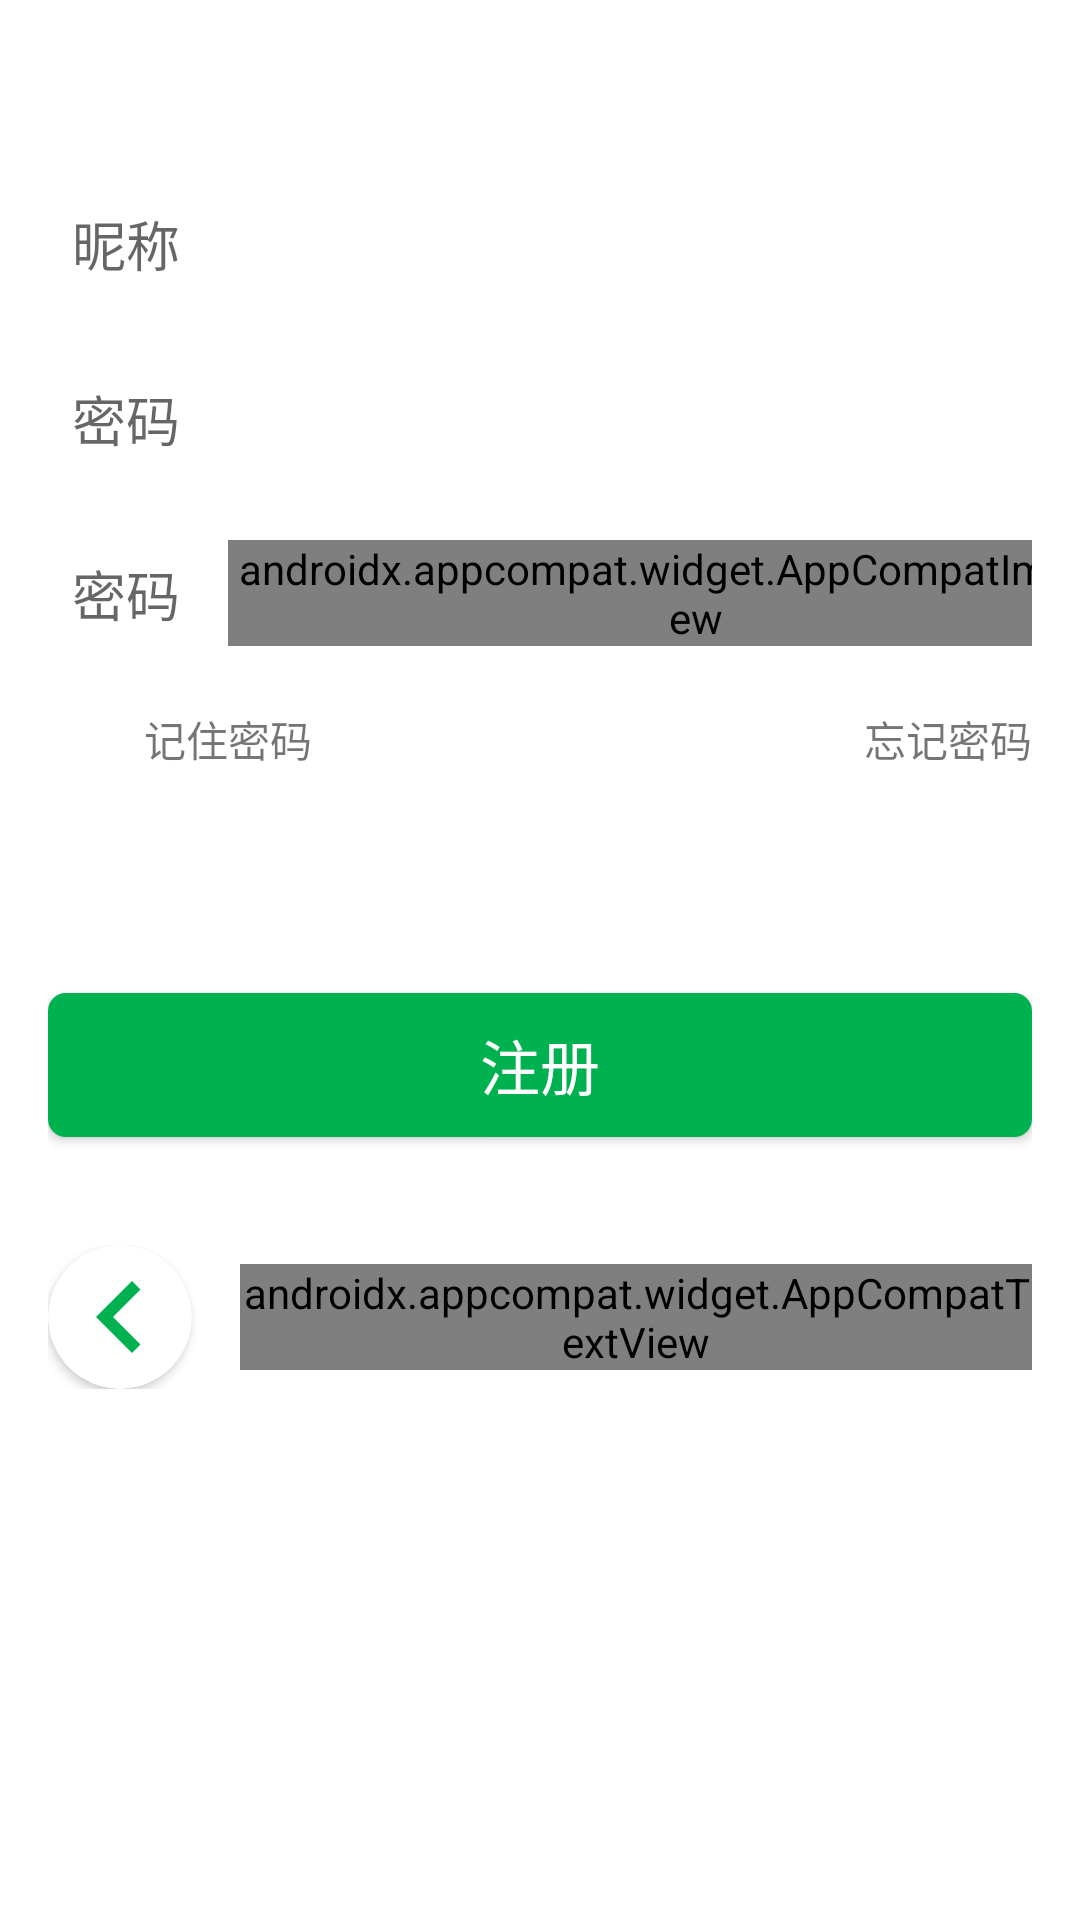

Icons on this 1080×1920 Android screen, each with the point to tap as (x,y):
keyboard arrow left: (113,1335)
